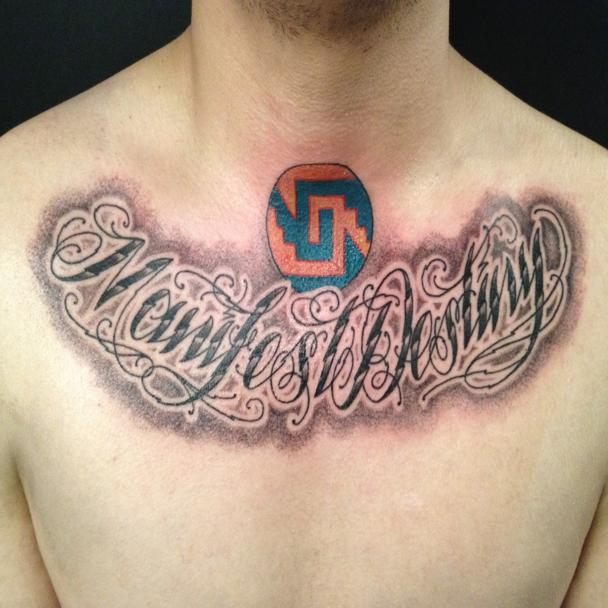tattoos: (27, 161, 590, 456)
